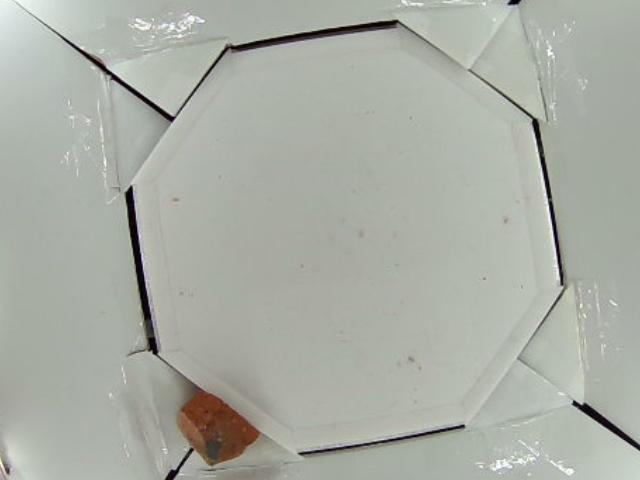Brisk: (178, 391, 256, 463)
